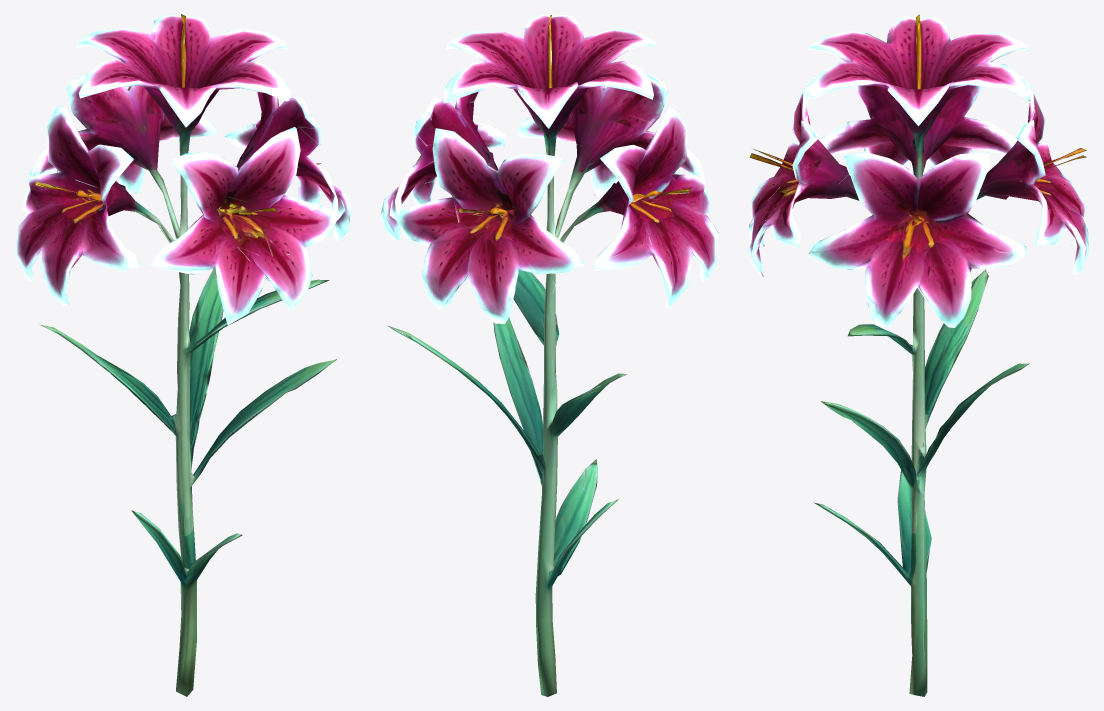
3 views of the same model, side by side, from view 1: azimuth 30°, elevation 25°; view 2: azimuth 150°, elevation 25°; view 3: azimuth 270°, elevation 25° (orthographic).
Parts seen in each view (by area): view 1: Mesh_0; view 2: Mesh_0; view 3: Mesh_0.
Boxes of the visible parts, x1,y1,x2,y2 form: Mesh_0: (14, 14, 352, 696); Mesh_0: (381, 14, 718, 696); Mesh_0: (747, 14, 1089, 696).
Size of the model in its own units: 0.8688 by 1.91 by 0.8729.
1 material, 1 textured.
